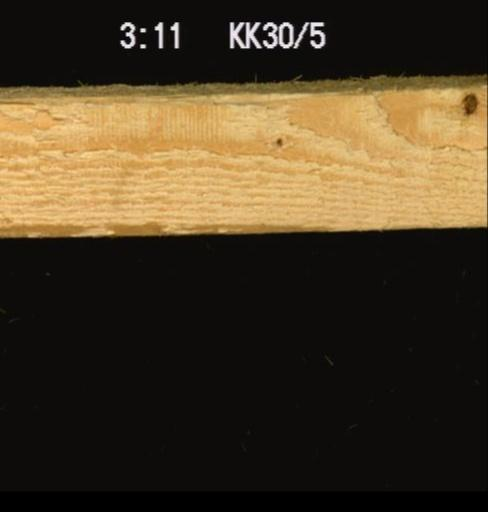dry_knot: (457, 88, 479, 117)
small_knot: (272, 132, 285, 151)
wave: (3, 77, 303, 104)
